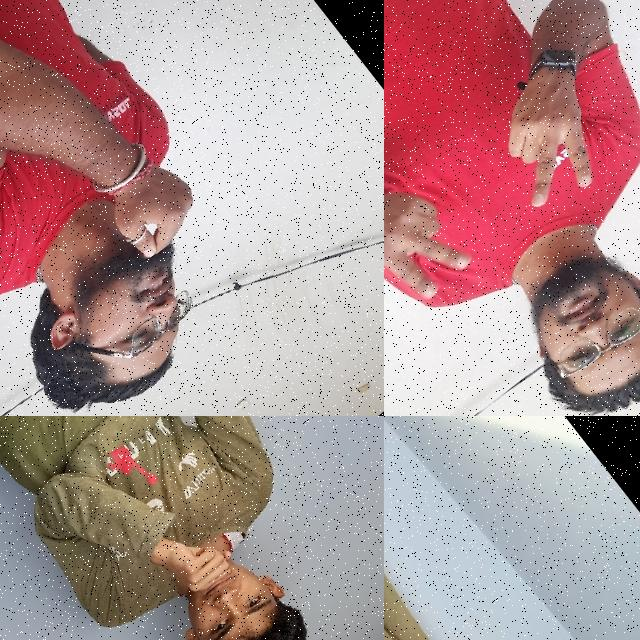Chin Flick: (0, 128, 282, 416)
Fist Mouth: (106, 481, 348, 640)
Reversed Victory: (456, 46, 640, 232), (384, 157, 485, 321)
